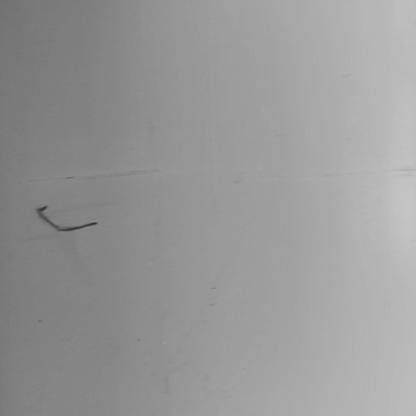fengxi: (31, 201, 116, 236)
